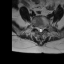CCS_normal: (39, 25, 41, 34)
LFS_normal: (43, 24, 46, 31)
LLS_normal: (41, 25, 43, 33)
RFS_normal: (35, 23, 37, 31)
RLS_normal: (37, 25, 39, 33)
